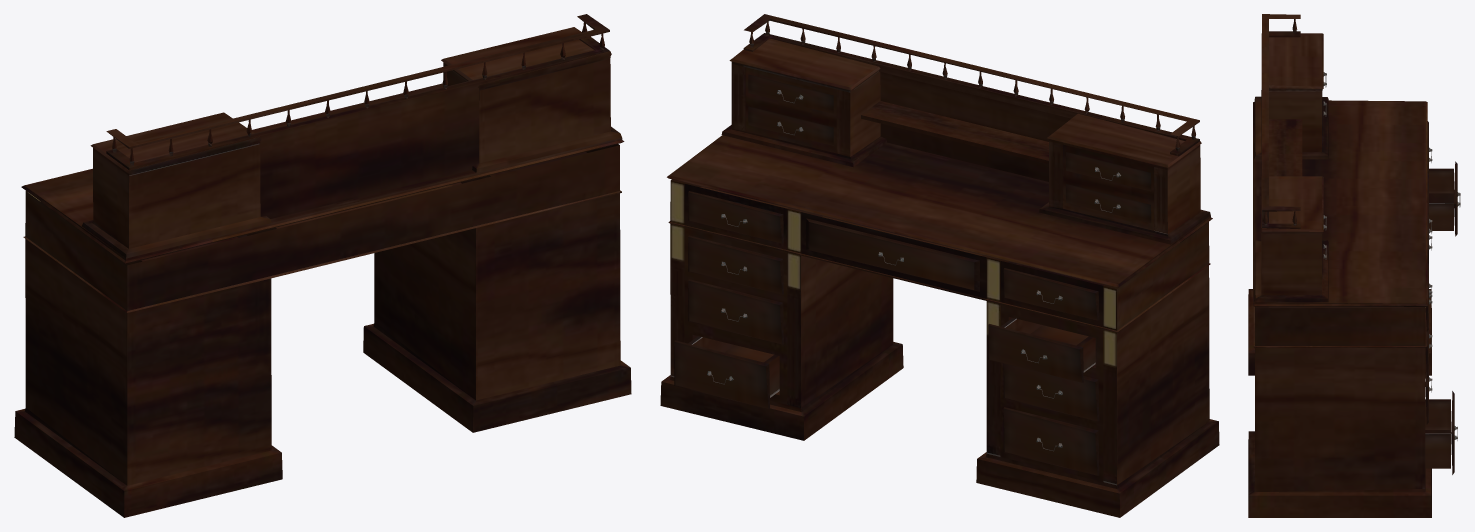
The model's file is desk-pedestal.lod1.glb.
3 views of the same model, side by side, from view 1: azimuth 30°, elevation 25°; view 2: azimuth 150°, elevation 25°; view 3: azimuth 270°, elevation 25° (orthographic). The views are drawn at different scales.
Visible parts, largest first — view 1: desk-pedestal; view 2: desk-pedestal; view 3: desk-pedestal.
Boxes of the visible parts, x1,y1,x2,y2 form: desk-pedestal: [14, 14, 631, 517]; desk-pedestal: [660, 14, 1219, 517]; desk-pedestal: [1248, 14, 1460, 517].
Size of the model in its own units: 1.6 by 1.09 by 0.6945.
Materials: 1 (1 with a texture image).
